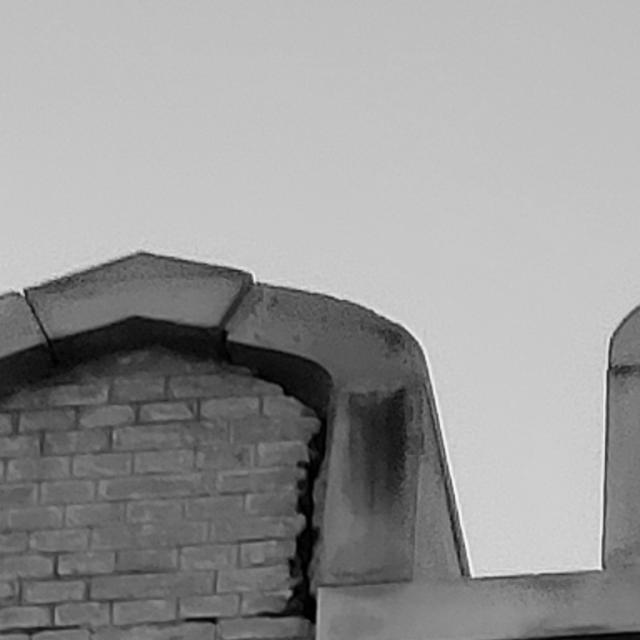crack: (240, 368, 328, 626), (0, 623, 81, 640)
